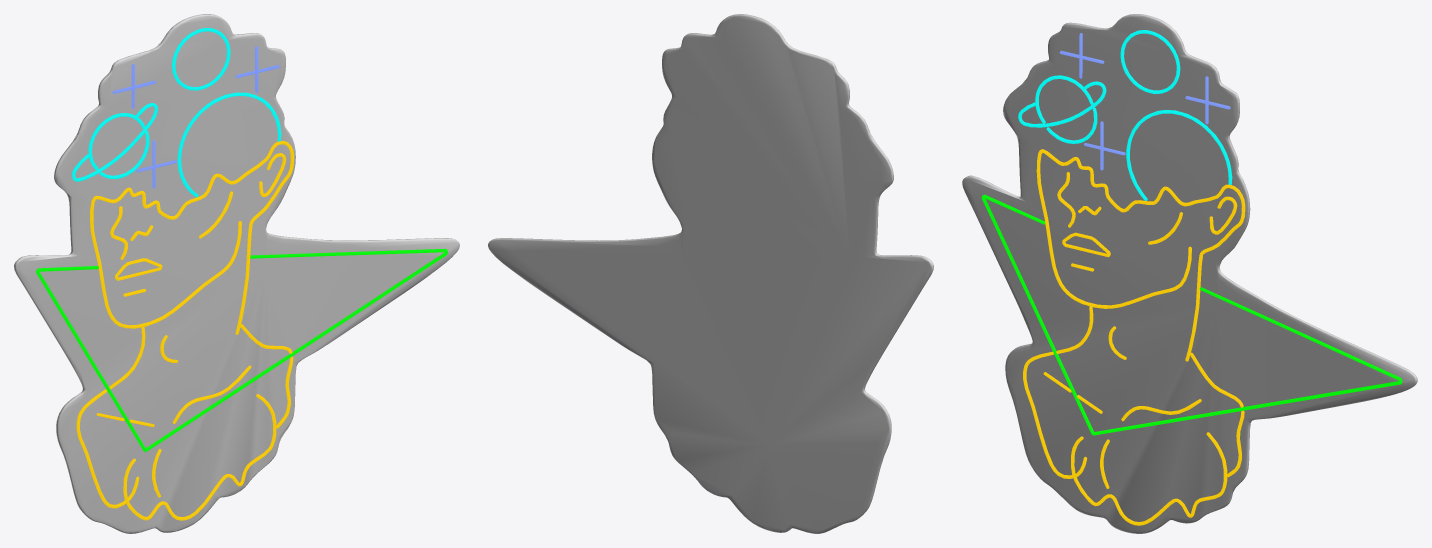
File: neon_spaceman.glb
3 renders of one model, left to right at view 1: azimuth 30°, elevation 25°; view 2: azimuth 150°, elevation 25°; view 3: azimuth 330°, elevation 25°, orthographic. The views are drawn at different scales.
Parts seen in each view (by area): view 1: Space_Man_Neon_059.001; view 2: Space_Man_Neon_059.001; view 3: Space_Man_Neon_059.001.
Boxes of the visible parts, x1,y1,x2,y2 form: Space_Man_Neon_059.001: (14,14,459,533); Space_Man_Neon_059.001: (488,14,933,533); Space_Man_Neon_059.001: (962,14,1417,533).
Bounding box in the file's own units: 3.65 × 4 × 0.0484.
